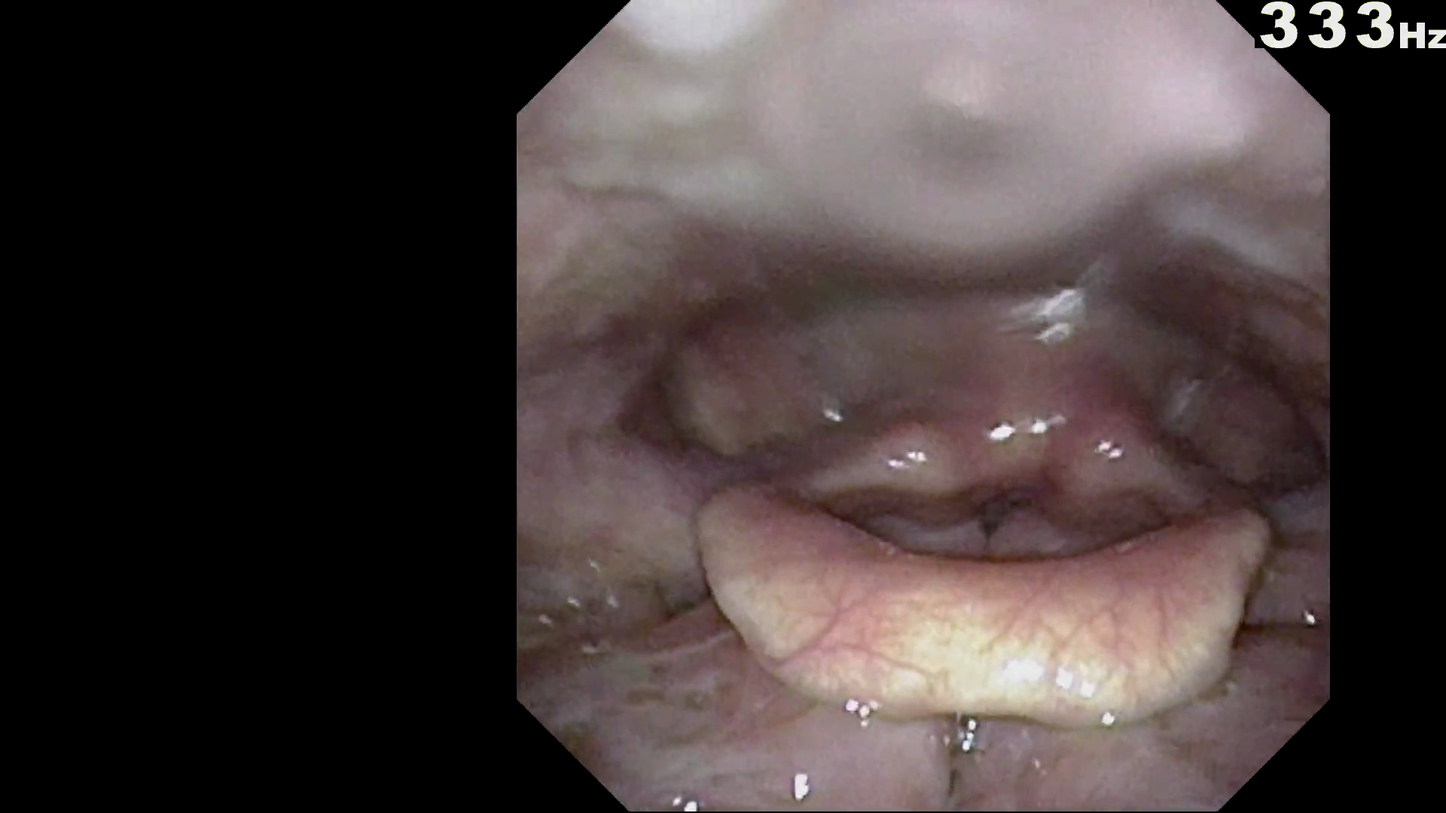epiglottis: (669, 509, 1278, 734)
trachea: (970, 487, 1033, 548)
